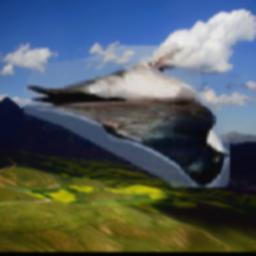Swallow: (24, 46, 230, 187)
